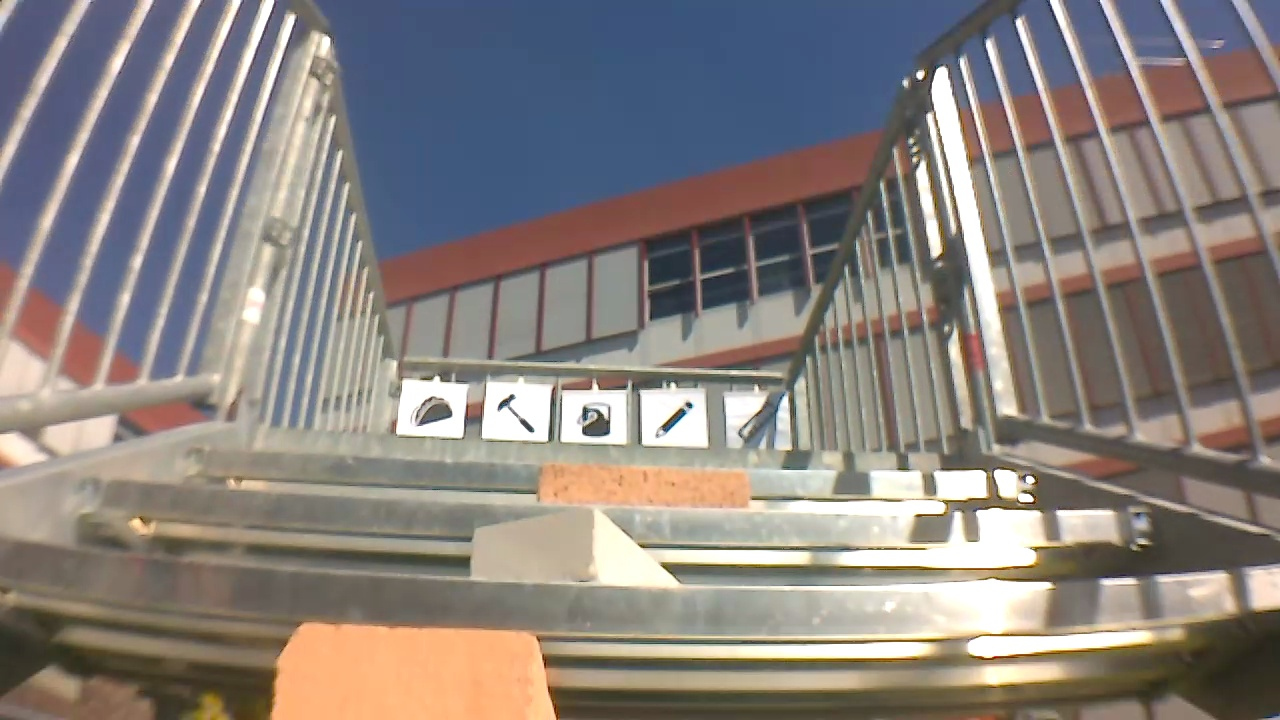brick: (266, 628, 564, 720), (464, 517, 686, 580), (531, 468, 745, 506)
edge: (1, 555, 1280, 654), (63, 484, 1160, 533), (256, 417, 978, 465), (180, 457, 1051, 485)
